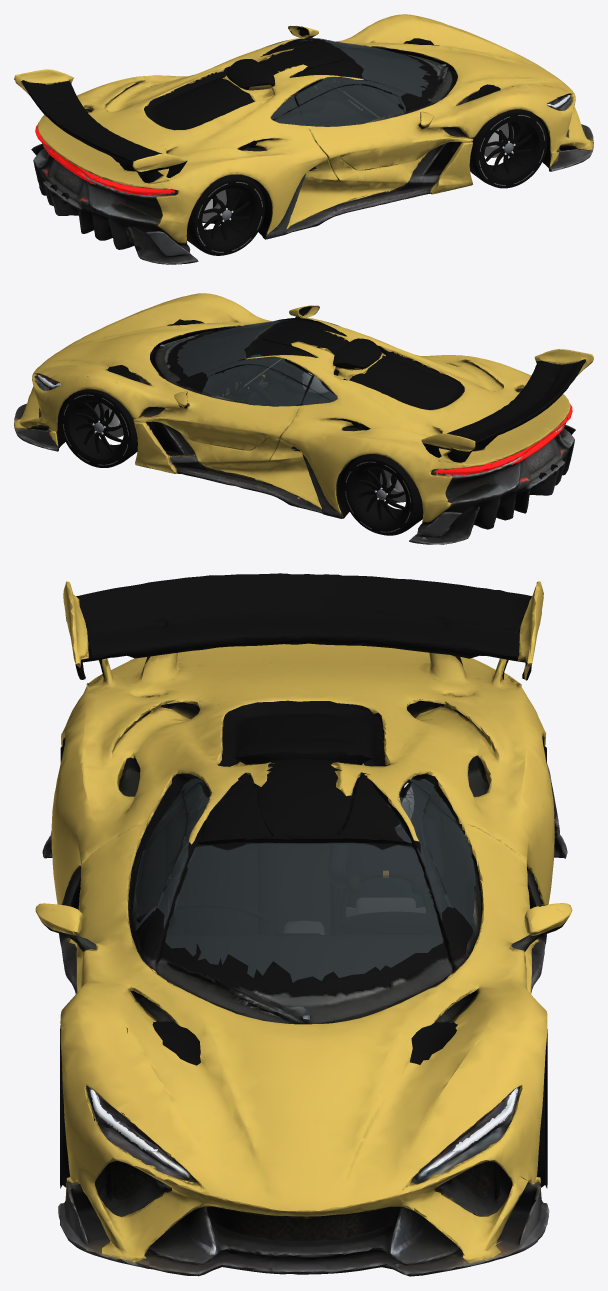
Rendered from rpx_hyperion.glb.
3 renders of one model, top to bottom at view 1: azimuth 30°, elevation 25°; view 2: azimuth 150°, elevation 25°; view 3: azimuth 270°, elevation 25°, orthographic. The views are drawn at different scales.
Parts seen in each view (by area): view 1: body, window_R, interior, tyre_RR, tyre_FR, glass, rim_RR, rim_FR, taillight_lens; view 2: body, window_L, interior, tyre_RL, glass, tyre_FL, rim_RL, rim_FL, driver, taillight_lens; view 3: body, glass, interior, driver, window_L, window_R, steering_wheel, headlight_lens, tyre_FL.
Part boxes in pixels (x1,y1,x2,y2): body: [14, 14, 593, 264]; window_R: [271, 77, 405, 126]; interior: [320, 48, 421, 121]; tyre_RR: [186, 174, 264, 255]; tyre_FR: [459, 109, 547, 188]; glass: [273, 38, 430, 120]; rim_RR: [202, 188, 251, 241]; rim_FR: [484, 121, 533, 174]; taillight_lens: [35, 125, 175, 194]; body: [14, 293, 593, 544]; window_L: [203, 355, 336, 406]; interior: [184, 328, 288, 401]; tyre_RL: [343, 454, 423, 535]; glass: [177, 318, 338, 396]; tyre_FL: [60, 389, 149, 467]; rim_RL: [356, 468, 405, 521]; rim_FL: [74, 401, 123, 454]; driver: [249, 370, 336, 406]; taillight_lens: [435, 404, 572, 474]; body: [35, 573, 572, 1276]; glass: [136, 779, 471, 982]; interior: [136, 805, 442, 982]; driver: [328, 782, 443, 907]; window_L: [388, 778, 476, 925]; window_R: [134, 778, 208, 931]; steering_wheel: [340, 871, 431, 918]; headlight_lens: [90, 1087, 517, 1151]; tyre_FL: [537, 1029, 547, 1188].
Size of the model in its own units: 4.7 by 1.11 by 2.16.
11 materials, 8 textured.
